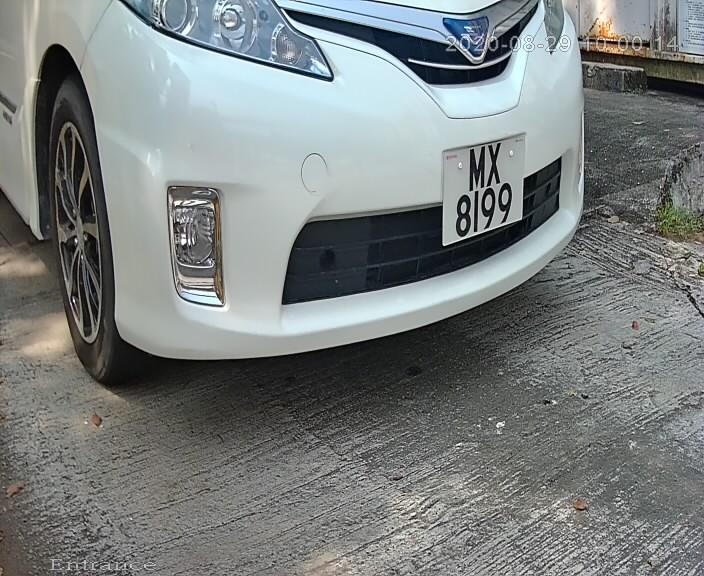License Plate: (434, 124, 529, 255)
